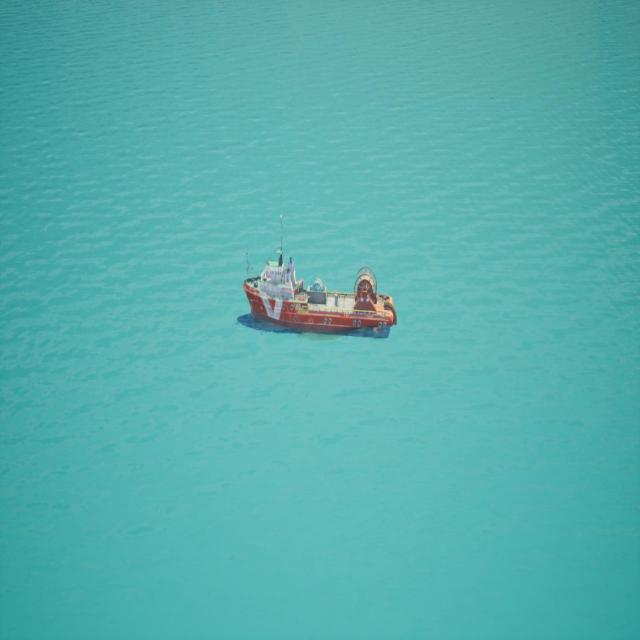tug boat: (241, 213, 402, 343)
